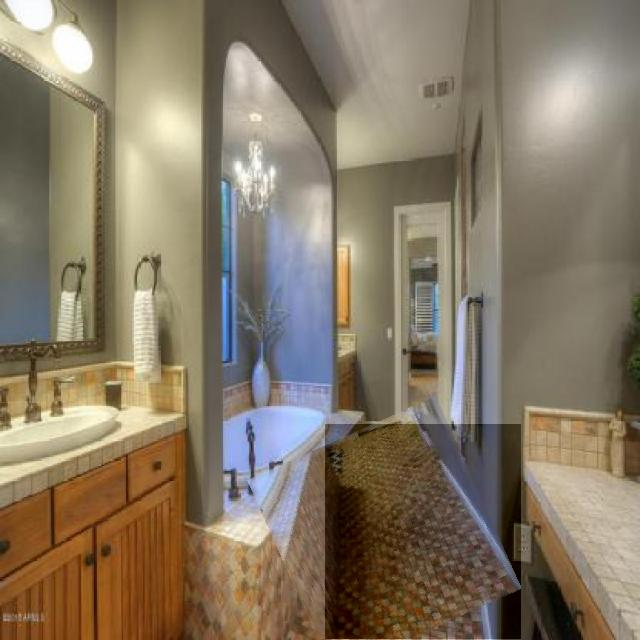floor: (326, 424, 521, 640)
